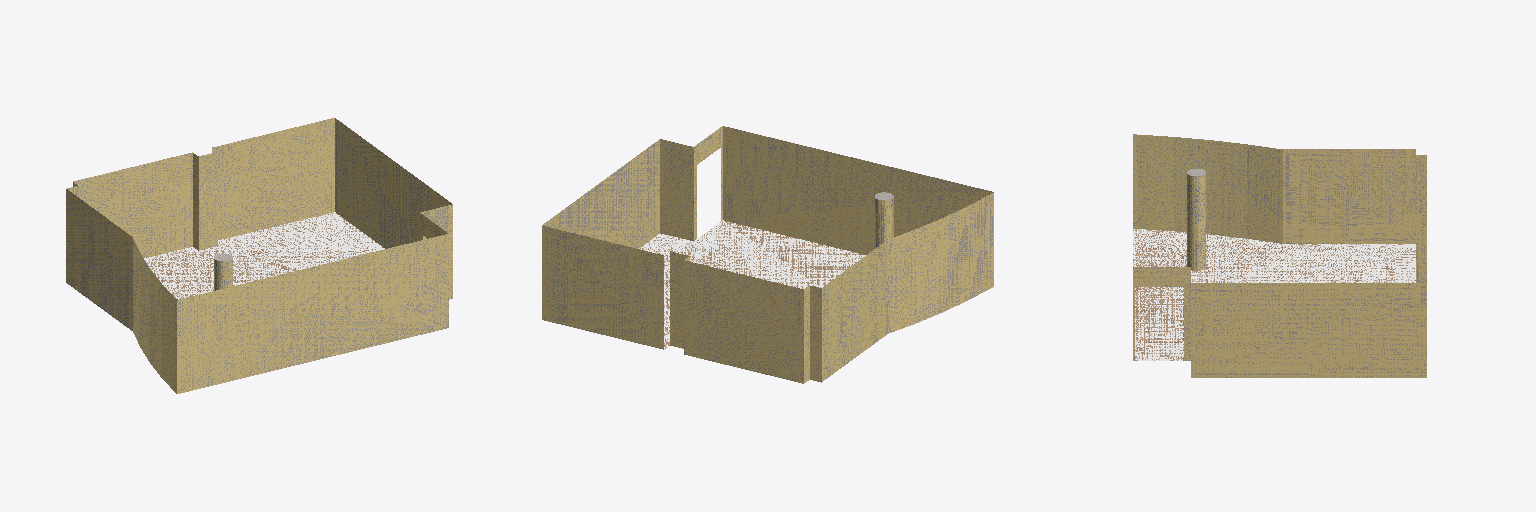
3 renders of one model, left to right at view 1: azimuth 30°, elevation 25°; view 2: azimuth 150°, elevation 25°; view 3: azimuth 270°, elevation 25°, orthographic.
Parts seen in each view (by area): view 1: Mesh4 AUL016 Model, Mesh1 Group1 AUL016 Model; view 2: Mesh4 AUL016 Model, Mesh1 Group1 AUL016 Model; view 3: Mesh4 AUL016 Model, Mesh1 Group1 AUL016 Model.
Boxes of the visible parts, <box> form: Mesh4 AUL016 Model: <box>66,118,452,393</box>; Mesh1 Group1 AUL016 Model: <box>214,253,232,290</box>; Mesh4 AUL016 Model: <box>542,126,993,383</box>; Mesh1 Group1 AUL016 Model: <box>875,192,893,248</box>; Mesh4 AUL016 Model: <box>1133,134,1426,377</box>; Mesh1 Group1 AUL016 Model: <box>1187,169,1205,270</box>.
Bounding box in the file's own units: 10.06 × 2.98 × 8.42.
5 materials, 1 textured.